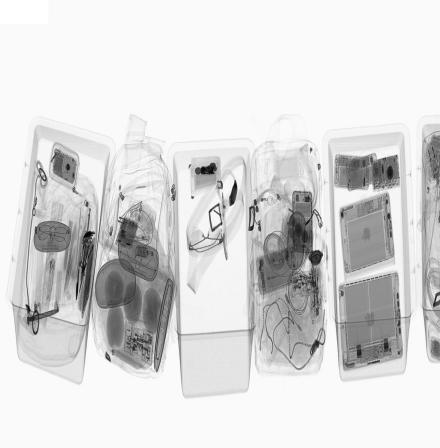Lighter: (45, 256, 56, 304)
